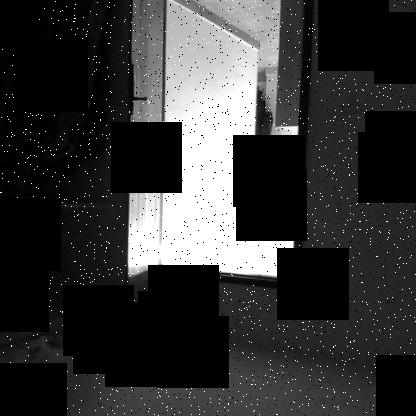Porte: (120, 1, 318, 310)
